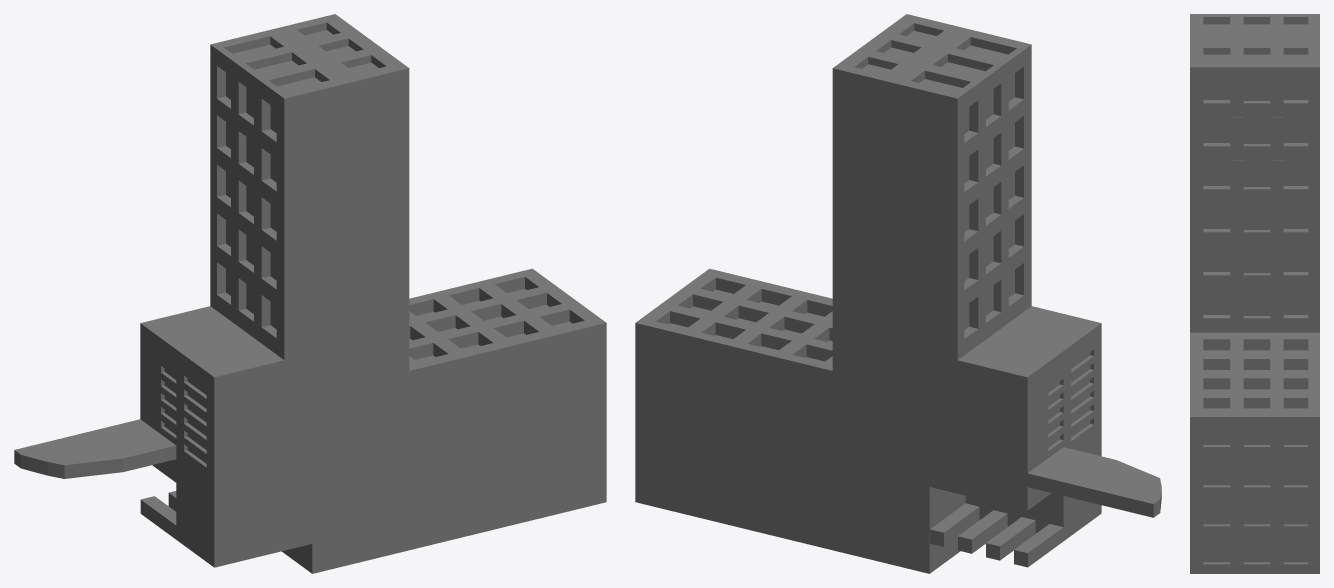
The model's file is Lasy Państwowe.obj.
The picture shows the model from 3 angles, left to right: view 1: azimuth 30°, elevation 25°; view 2: azimuth 150°, elevation 25°; view 3: azimuth 270°, elevation 25°; orthographic projection. The views are drawn at different scales.
Visible parts, largest first — view 1: Lasy_Państwowe.obj; view 2: Lasy_Państwowe.obj; view 3: Lasy_Państwowe.obj.
Boxes of the visible parts, x1=… form: Lasy_Państwowe.obj: x1=14, y1=14, x2=606, y2=573; Lasy_Państwowe.obj: x1=635, y1=14, x2=1161, y2=573; Lasy_Państwowe.obj: x1=1190, y1=14, x2=1319, y2=573.
Bounding box in the file's own units: 51 × 45.34 × 12.63.
